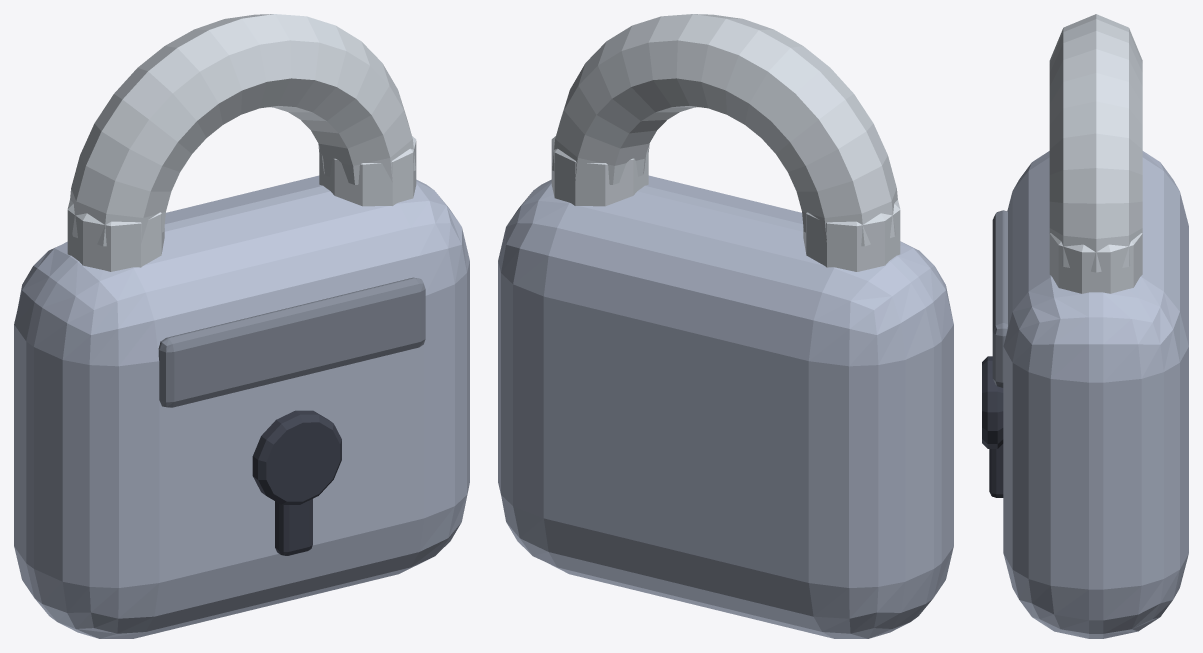
File: lock.glb
The picture shows the model from 3 angles, left to right: view 1: azimuth 30°, elevation 25°; view 2: azimuth 150°, elevation 25°; view 3: azimuth 270°, elevation 25°; orthographic projection. The views are drawn at different scales.
Parts seen in each view (by area): view 1: lock; view 2: lock; view 3: lock.
Boxes of the visible parts, x1,y1,x2,y2 form: lock: (14, 14, 469, 638); lock: (498, 14, 953, 638); lock: (982, 14, 1188, 638).
Size of the model in its own units: 0.64 by 0.835 by 0.29.
